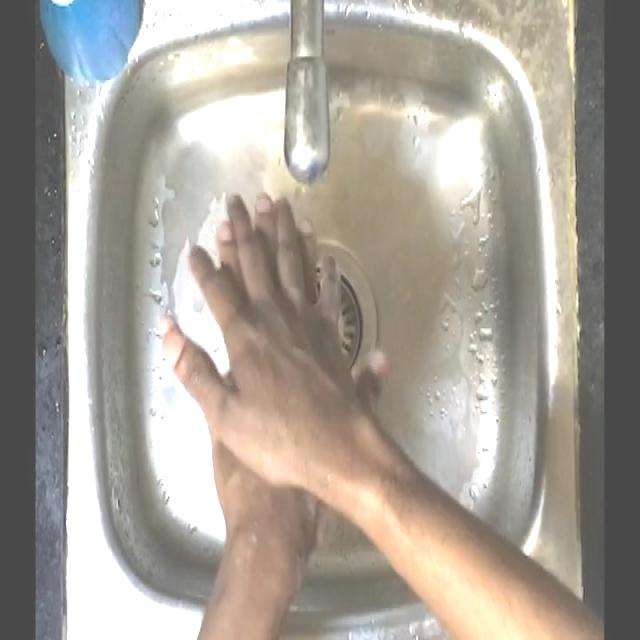step_2: (160, 176, 394, 466)
